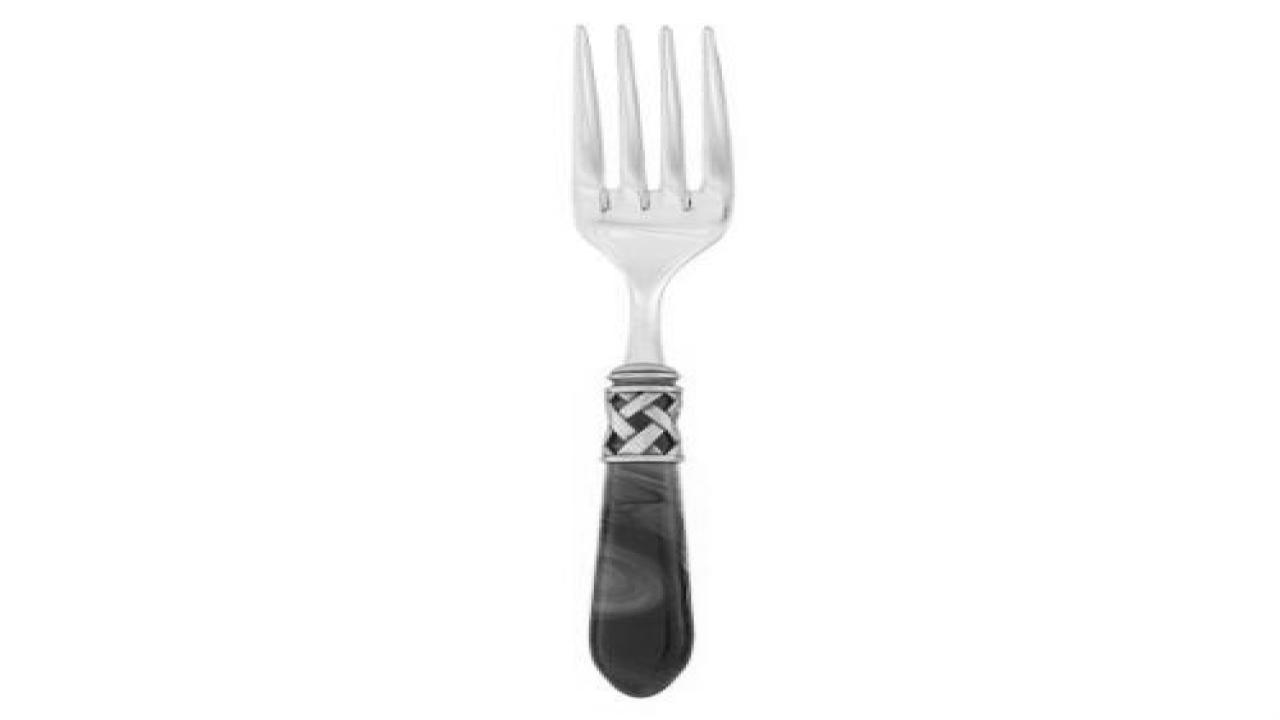fork: (568, 22, 735, 697)
